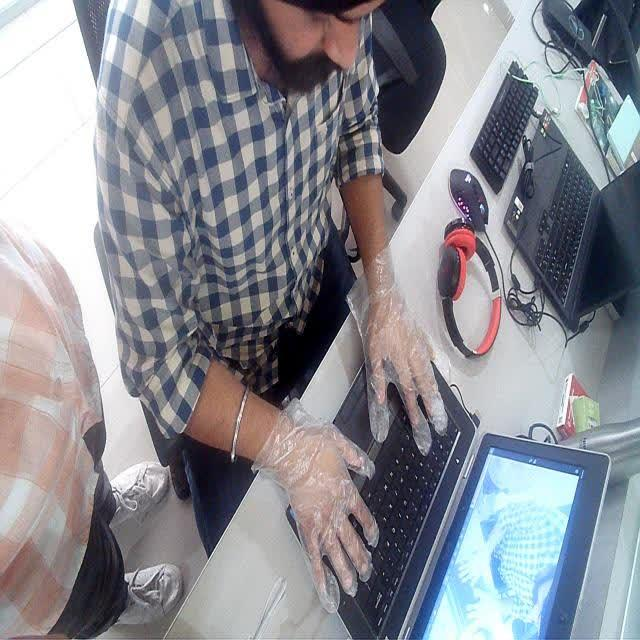with_gloves: (269, 413, 413, 585), (356, 275, 469, 429)
